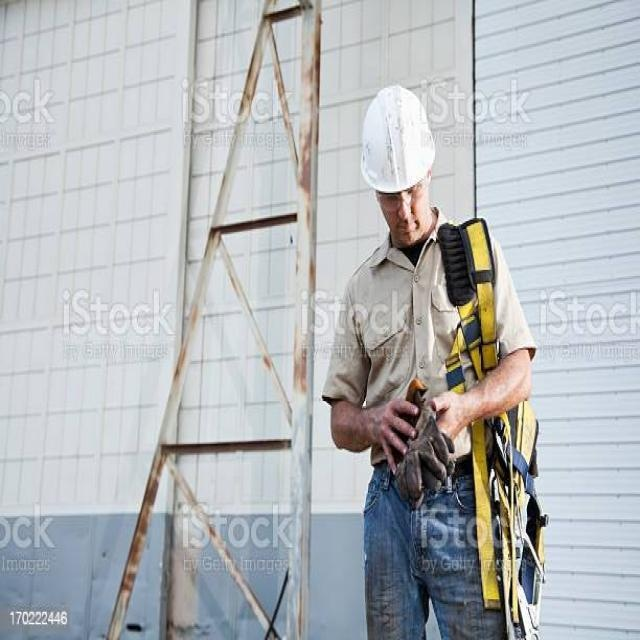Arnes_seguridad: (430, 201, 556, 640)
